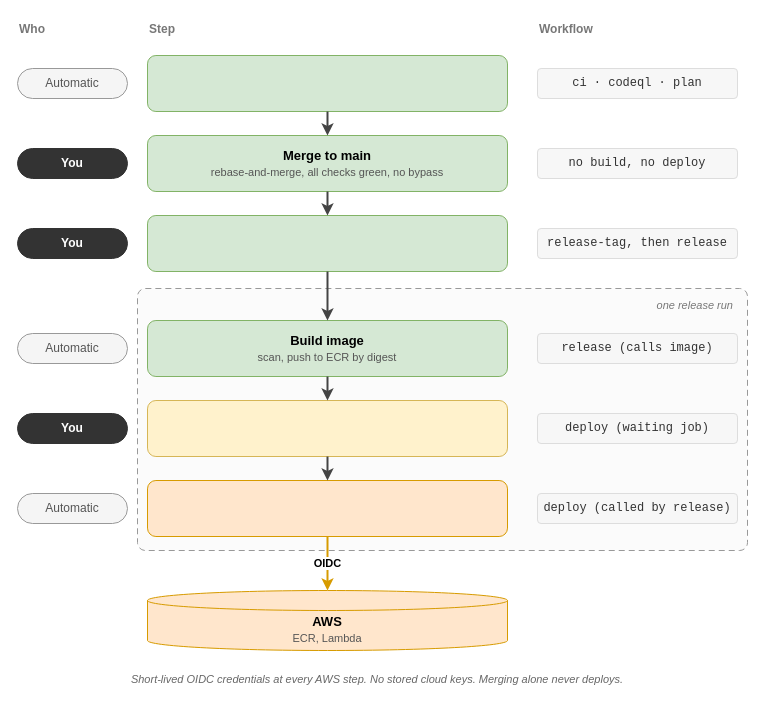
Image size: 765x708. Some labels were removed from this diagram. Here are the shapes that lost their labels. From the top down, the centre of each, then its label:
At pixel 327 83: "Pull request lint, tests, scans, plan".
At pixel 327 243: "Tag a release push vX.Y.Z".
At pixel 327 428: "Owner approval prod environment, main only".
At pixel 327 508: "Deploy apply the checked plan, verify /health".
